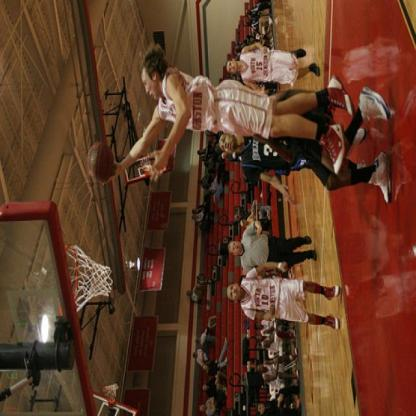basketball: (86, 135, 115, 181)
rim: (60, 244, 79, 307)
